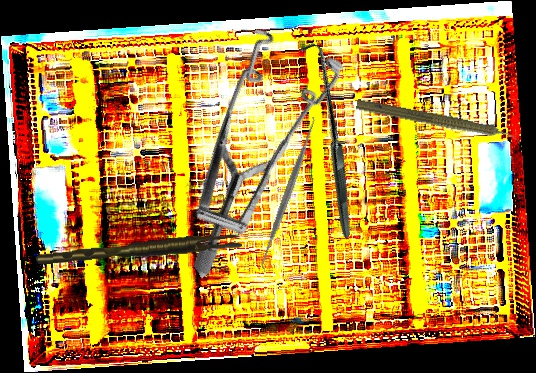Handpiece: (354, 96, 524, 148)
Hook Surgical: (228, 39, 426, 239)
Spatula Surgical: (251, 114, 325, 274)
Speculum: (104, 0, 398, 279)
Tissue Forceps: (35, 233, 243, 265)
